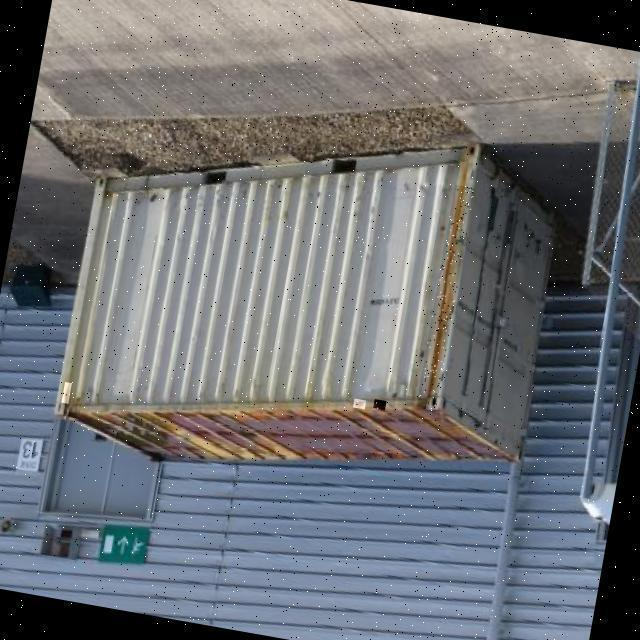rust: (417, 186, 476, 411), (62, 383, 73, 405), (351, 399, 366, 410), (372, 400, 387, 411)
